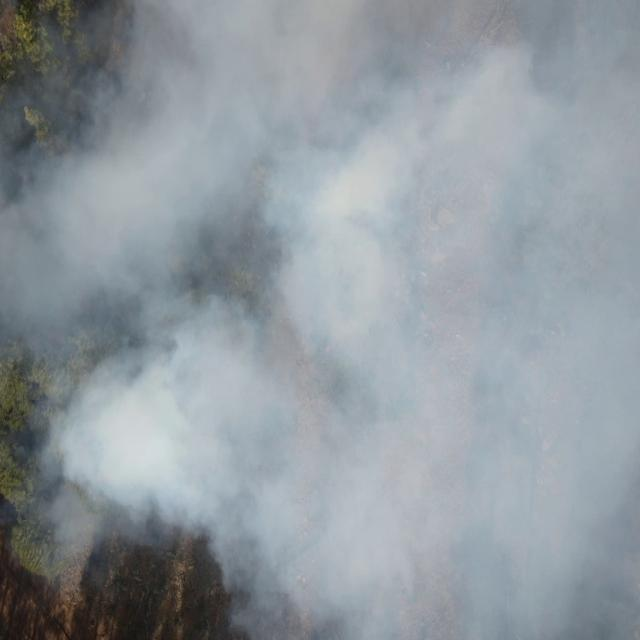smoke: (213, 2, 640, 640), (2, 70, 214, 574), (33, 2, 214, 68)
